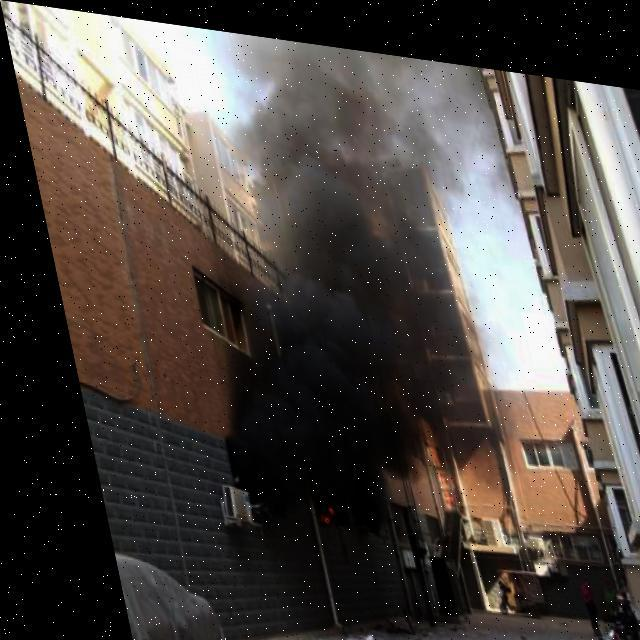Fire: (292, 483, 334, 521)
